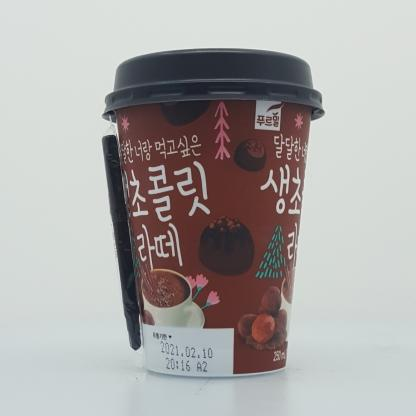----------250ML: (102, 48, 325, 377)
